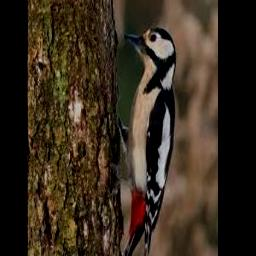Woodpecker: (106, 26, 176, 256)
